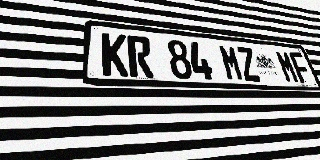4: (187, 41, 214, 80)
8: (166, 39, 193, 79)
F: (288, 52, 314, 83)
K: (102, 32, 129, 77)
M: (218, 44, 245, 81), (274, 50, 300, 83)
R: (127, 35, 154, 78)
Z: (235, 46, 262, 82)
